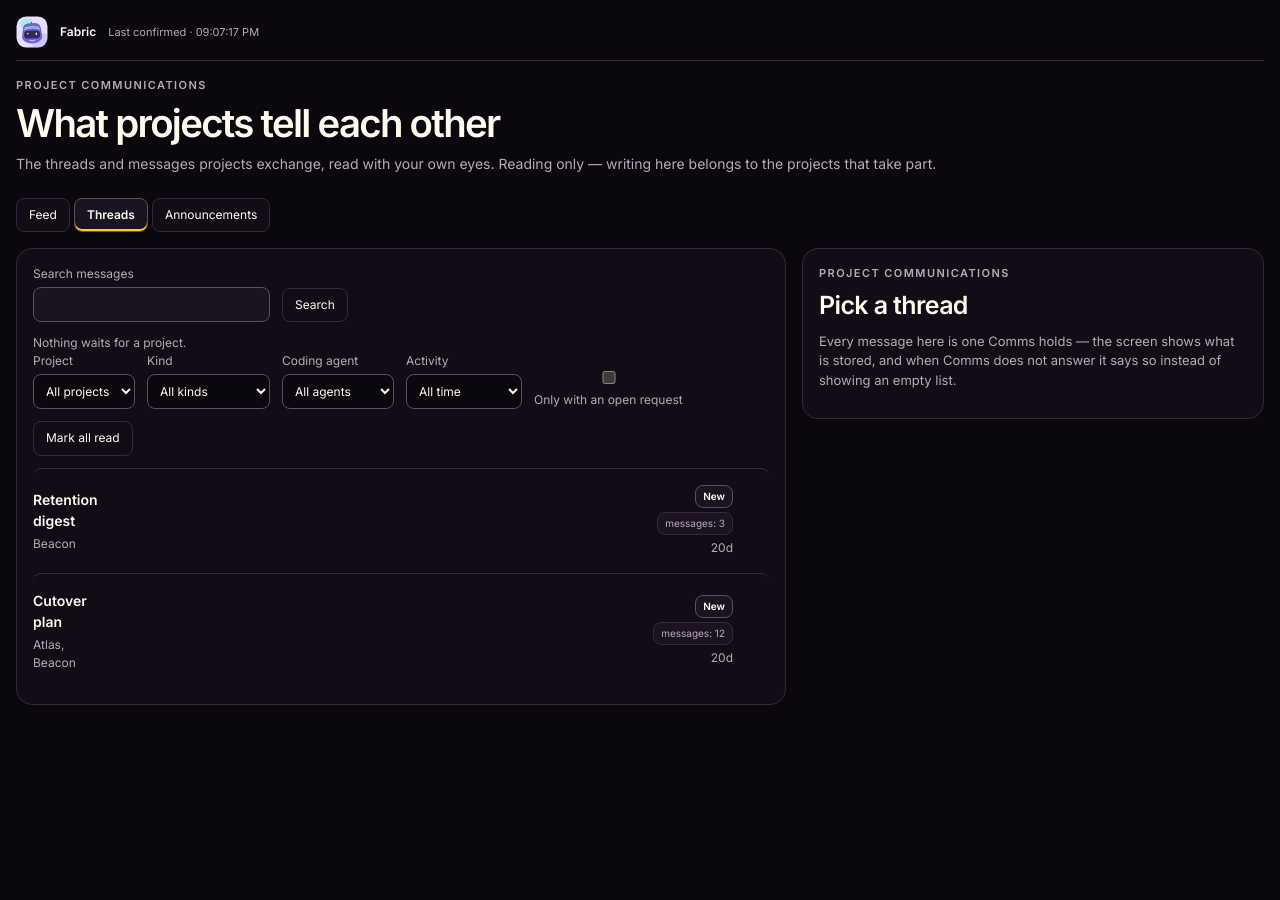
Test: the filters are reads the board answers › by the coding agent that took part in the thread's requests (the fifth filter)
Check: the text "Cutover plan" is shown, box x1=33 y1=590 x2=57 y2=632
Select "Claude Code" in the dropdown labelled "Coding agent". click: (338, 392)
box: x1=282 y1=374 x2=394 y2=409
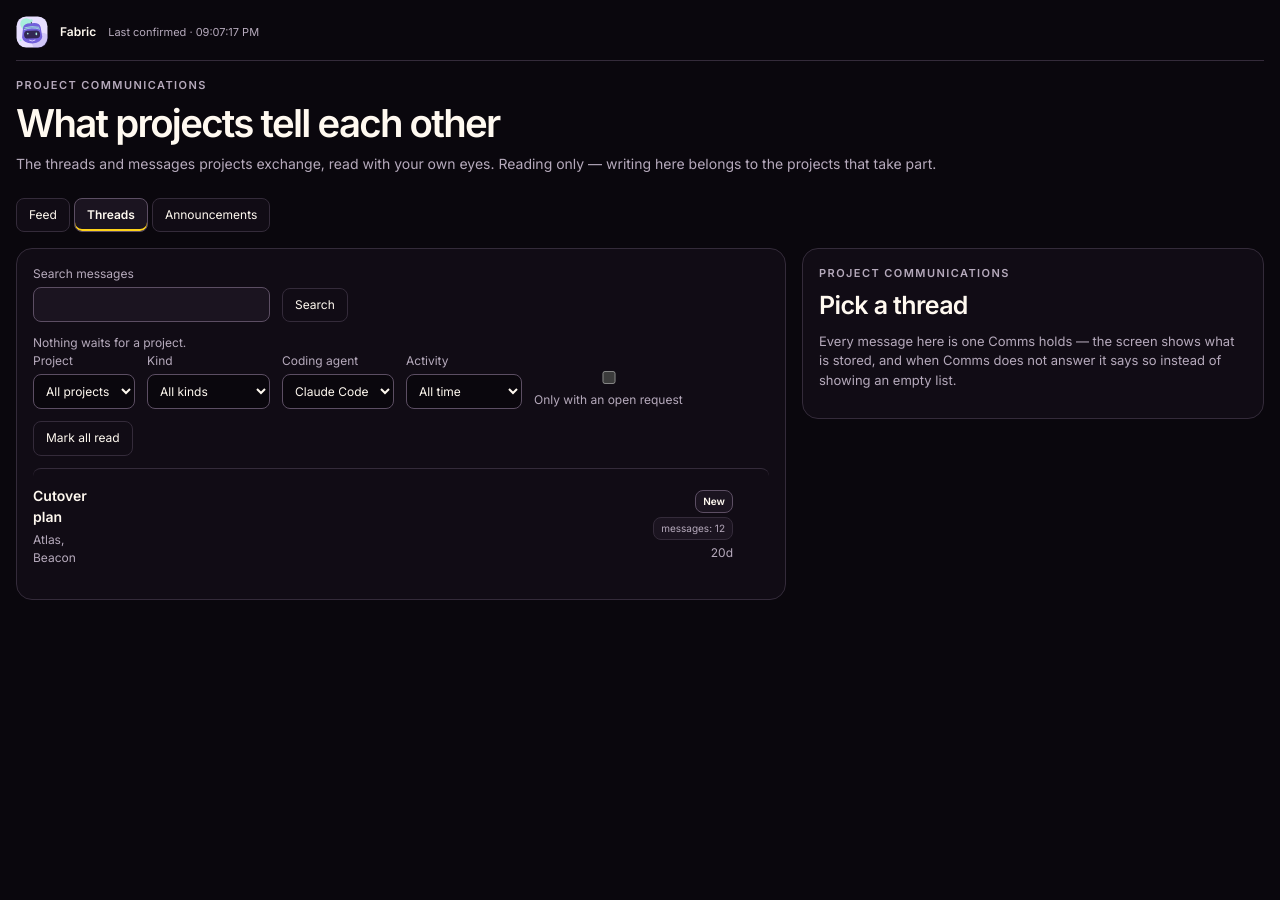
Check: the button "Retention digest" is gone
